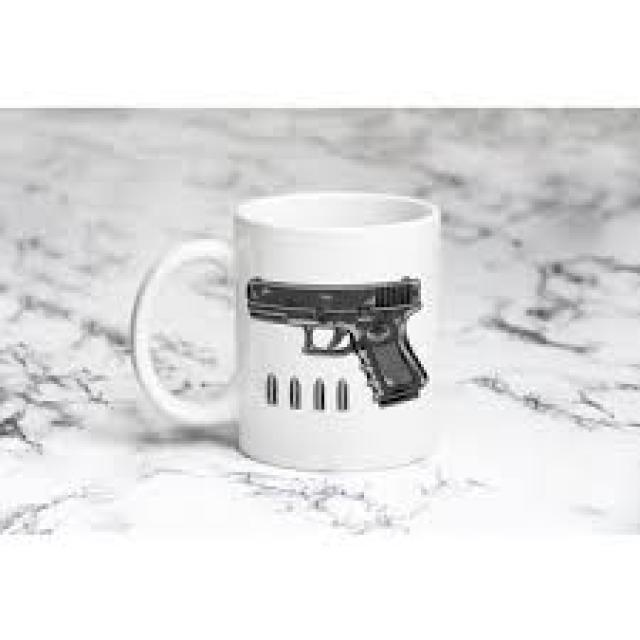taza: (132, 191, 444, 475)
